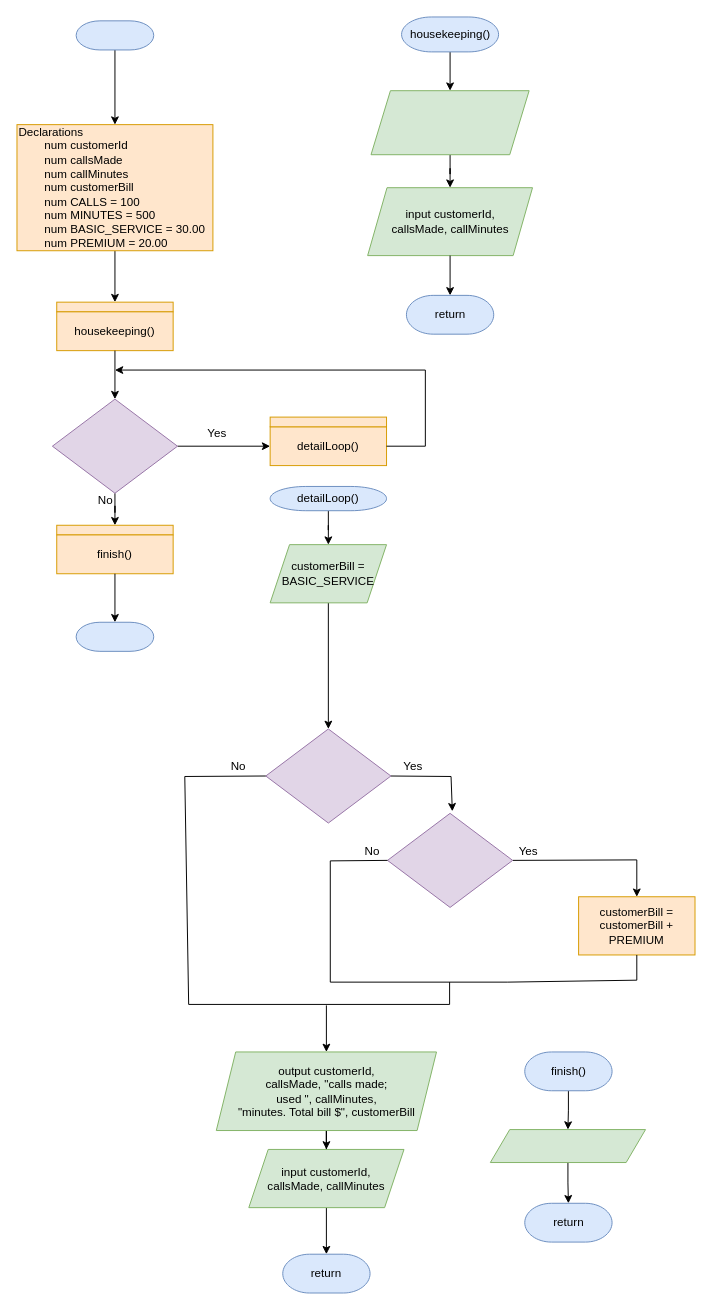
The diagram is 712 pixels wide and 1310 high, and some of its shapes have lost their labels. Here are the shapes that lost their labels. From the top down, the centre of each, then its label:
(114,35): start
(449,122): output "Phone payment calculator"
(114,445): not eof?
(114,636): stop
(328,775): callsMade > CALLS?
(450,859): callMinutes > Minutes?
(567,1146): output "Program ended"
